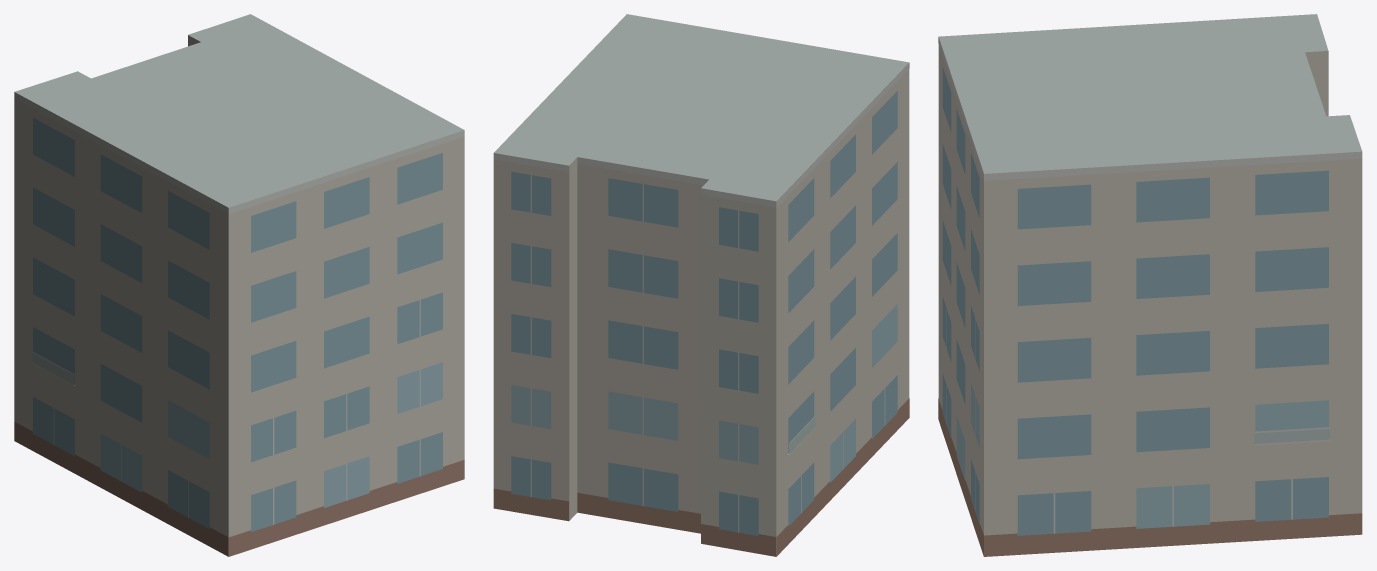
Rendered from survey-upis-32532918.glb.
The picture shows the model from 3 angles, left to right: view 1: azimuth 30°, elevation 25°; view 2: azimuth 150°, elevation 25°; view 3: azimuth 270°, elevation 25°; orthographic projection. The views are drawn at different scales.
Visible parts, largest first — view 1: survey-upis-32532918.tmp; view 2: survey-upis-32532918.tmp; view 3: survey-upis-32532918.tmp.
Boxes of the visible parts, x1=… form: survey-upis-32532918.tmp: x1=14, y1=14, x2=464, y2=556; survey-upis-32532918.tmp: x1=493, y1=14, x2=909, y2=556; survey-upis-32532918.tmp: x1=938, y1=14, x2=1362, y2=556.
Bounding box in the file's own units: 11.96 × 13.35 × 13.4.
